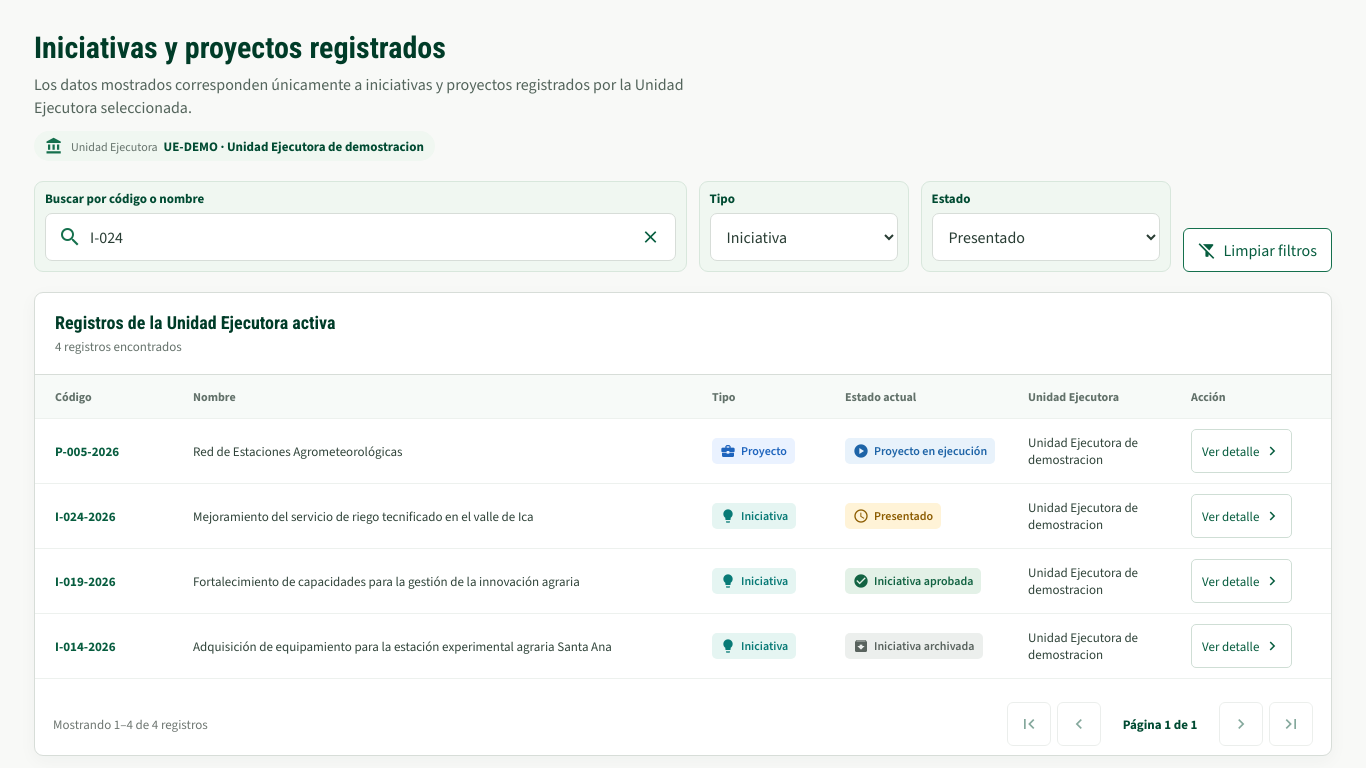
Scenario: DashboardComponent › limpia únicamente la búsqueda y conserva el debounce de 300 ms
The image size is (1366, 768).
Expected: the label with class "search-field" reads "Buscar por código o nombre", [45,190,204,207]
Click the button with class "search-clear" at (650, 237), box [628,215,672,259]
Wait 300 ms
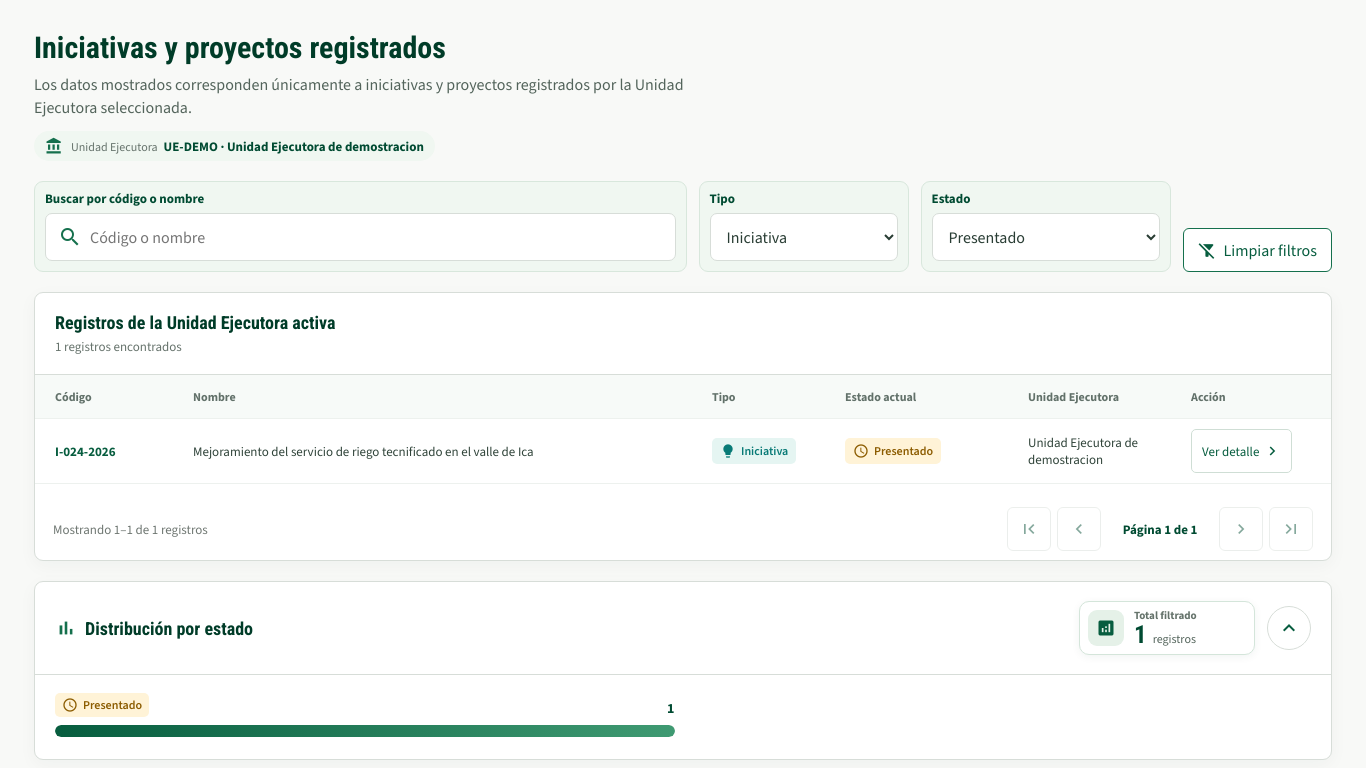
Expected: the button with class "search-clear" is gone
